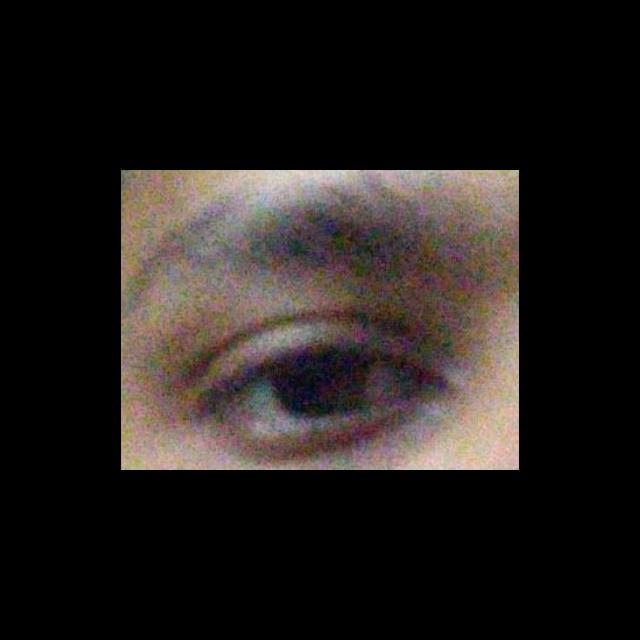eye: (233, 346, 412, 420)
iris: (271, 353, 373, 414)
